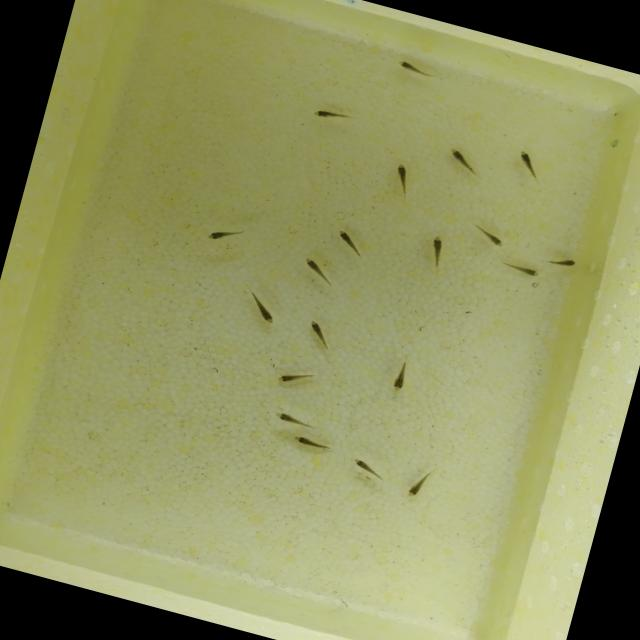fingerling: (402, 458, 441, 502), (324, 221, 367, 257), (510, 146, 546, 182), (242, 298, 284, 326), (498, 258, 546, 282), (348, 453, 387, 481), (274, 363, 314, 390), (444, 144, 477, 174), (304, 316, 333, 350), (295, 256, 335, 280), (392, 56, 430, 80), (291, 432, 334, 453), (385, 160, 417, 188), (203, 222, 236, 248), (425, 233, 446, 270), (548, 252, 582, 274), (477, 228, 508, 251), (389, 362, 412, 392), (310, 103, 342, 124), (274, 412, 312, 429)
